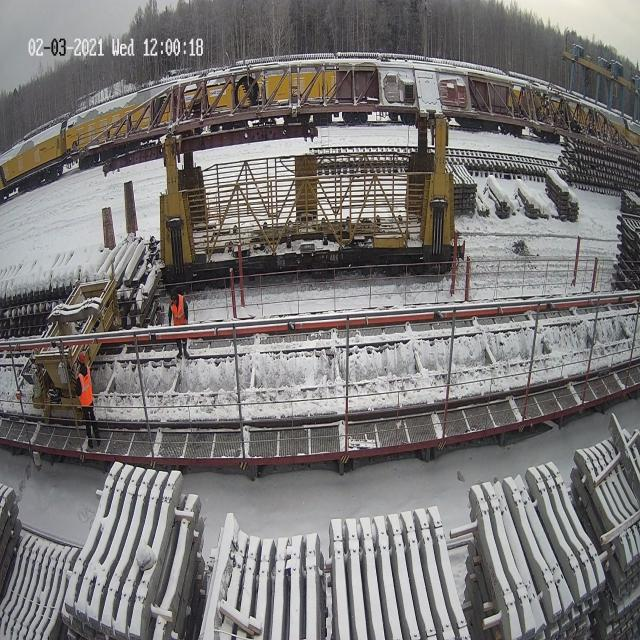Helmet: (170, 290, 178, 300), (78, 352, 85, 363)
Person: (75, 352, 101, 451), (169, 288, 190, 359)
